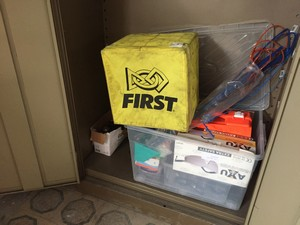cube: (101, 32, 200, 130)
